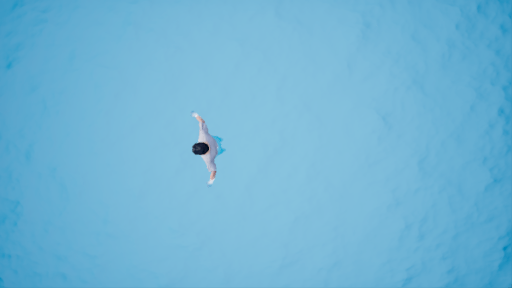person: (183, 100, 239, 201)
